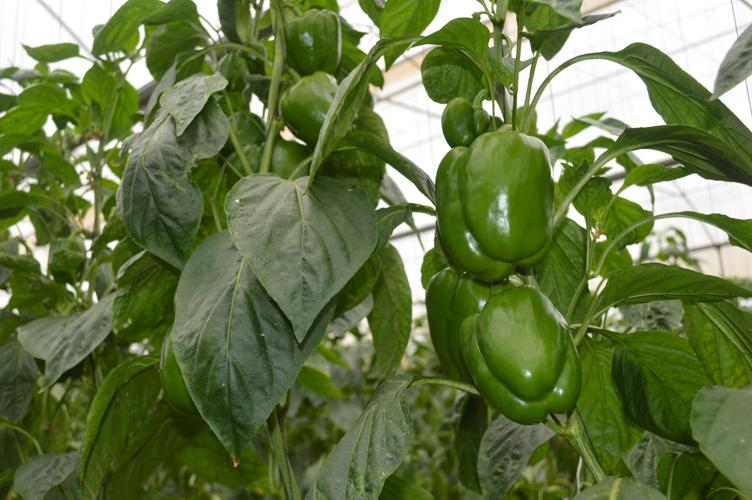BellPepper: (433, 131, 553, 282), (462, 286, 588, 424), (426, 270, 491, 389), (274, 75, 340, 143), (279, 9, 338, 74), (223, 144, 305, 187), (435, 102, 488, 147)
